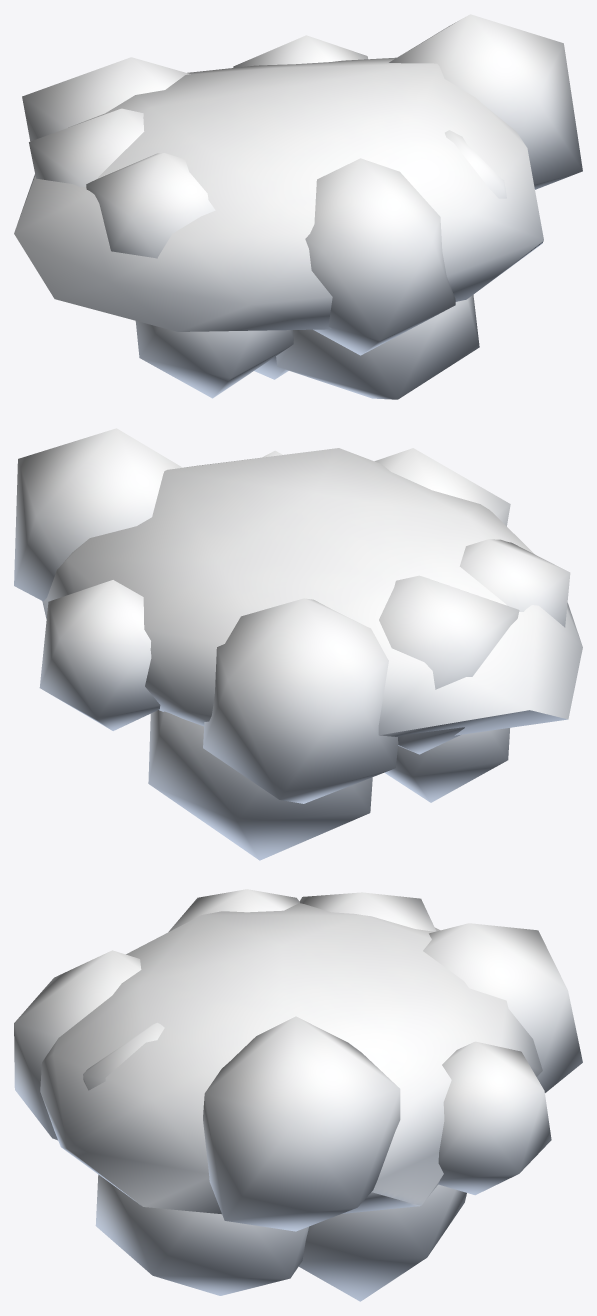
Rendered from cloud_island_a.gltf.
The picture shows the model from 3 angles, top to bottom: view 1: azimuth 30°, elevation 25°; view 2: azimuth 150°, elevation 25°; view 3: azimuth 270°, elevation 25°; orthographic projection. The views are drawn at different scales.
Visible parts, largest first — view 1: cloud_island_a; view 2: cloud_island_a; view 3: cloud_island_a.
Part boxes in pixels (x1,y1,x2,y2): cloud_island_a: (14,14,582,399); cloud_island_a: (14,428,582,860); cloud_island_a: (14,889,582,1301).
Bounding box in the file's own units: 5.49 × 3.52 × 4.88.
1 material, 1 textured.
